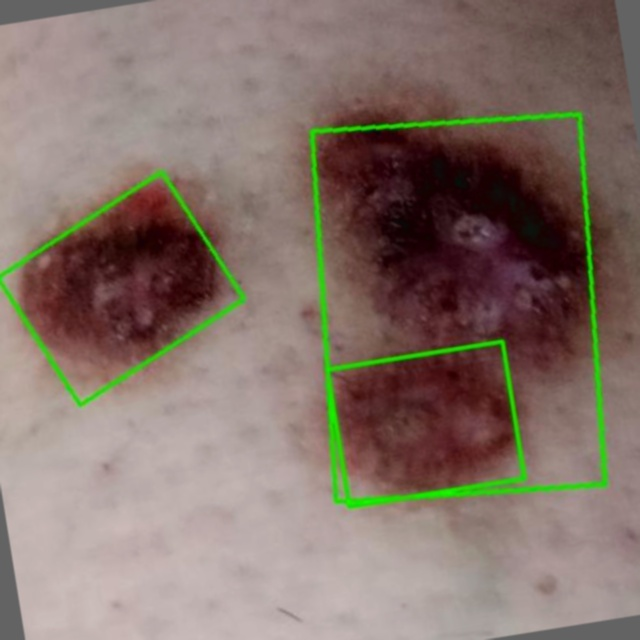Eczema: (312, 113, 605, 501), (0, 170, 244, 404), (327, 341, 524, 506)
